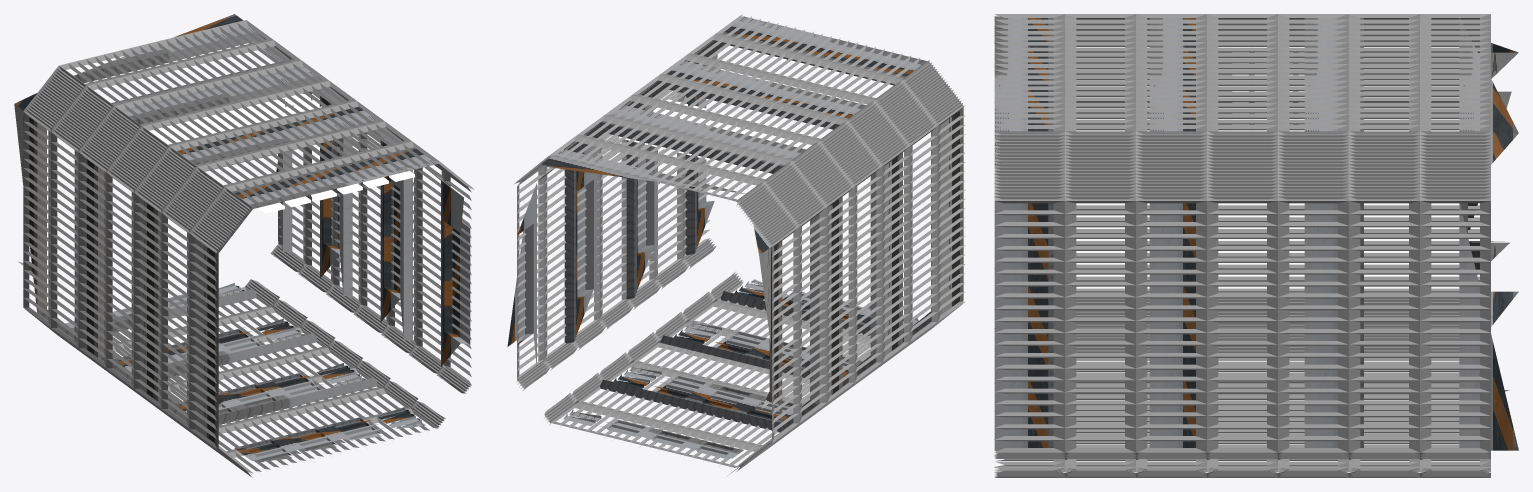
File: shipkit.glb
3 views of the same model, side by side, from view 1: azimuth 30°, elevation 25°; view 2: azimuth 150°, elevation 25°; view 3: azimuth 270°, elevation 25° (orthographic). The views are drawn at different scales.
Visible parts, largest first — view 1: run, wall, floor, ceil; view 2: run, wall, floor, ceil; view 3: run, floor, ceil, wall.
Part boxes in pixels (bbox=[...]): run: bbox=[14, 14, 474, 477]; wall: bbox=[245, 91, 471, 428]; floor: bbox=[112, 279, 445, 471]; ceil: bbox=[74, 32, 414, 213]; run: bbox=[514, 14, 965, 473]; wall: bbox=[507, 54, 743, 425]; floor: bbox=[544, 272, 903, 466]; ceil: bbox=[584, 43, 874, 192]; run: bbox=[994, 14, 1518, 477]; floor: bbox=[994, 361, 1490, 477]; ceil: bbox=[994, 34, 1479, 124]; wall: bbox=[994, 201, 1508, 453].
Size of the model in its own units: 3.15 by 3.15 by 4.31.
3 materials, 1 textured.
